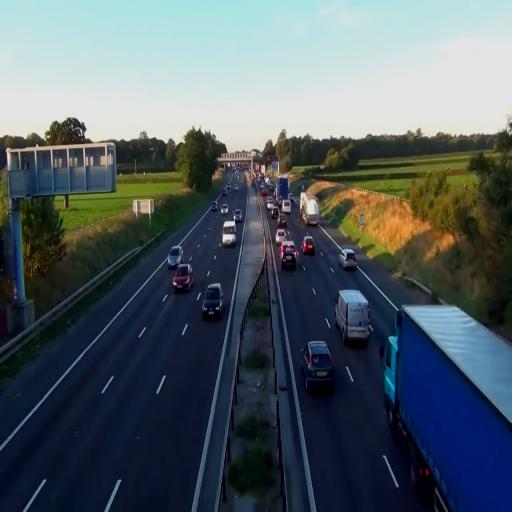vehicle: (382, 302, 512, 509), (335, 289, 372, 346), (335, 290, 372, 346), (301, 341, 335, 391), (201, 282, 224, 320), (300, 194, 320, 228), (172, 262, 193, 293), (281, 241, 298, 270), (340, 248, 358, 270), (222, 219, 236, 247), (166, 246, 182, 270), (301, 234, 315, 256)
